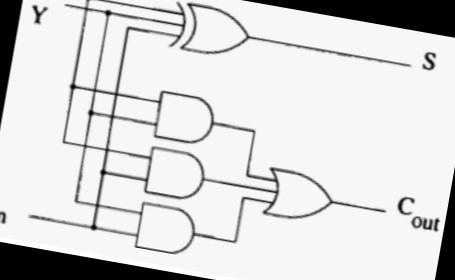and: (146, 84, 222, 152), (136, 140, 211, 208), (128, 196, 202, 260)
or: (255, 162, 341, 231)
xor: (162, 0, 258, 67)
